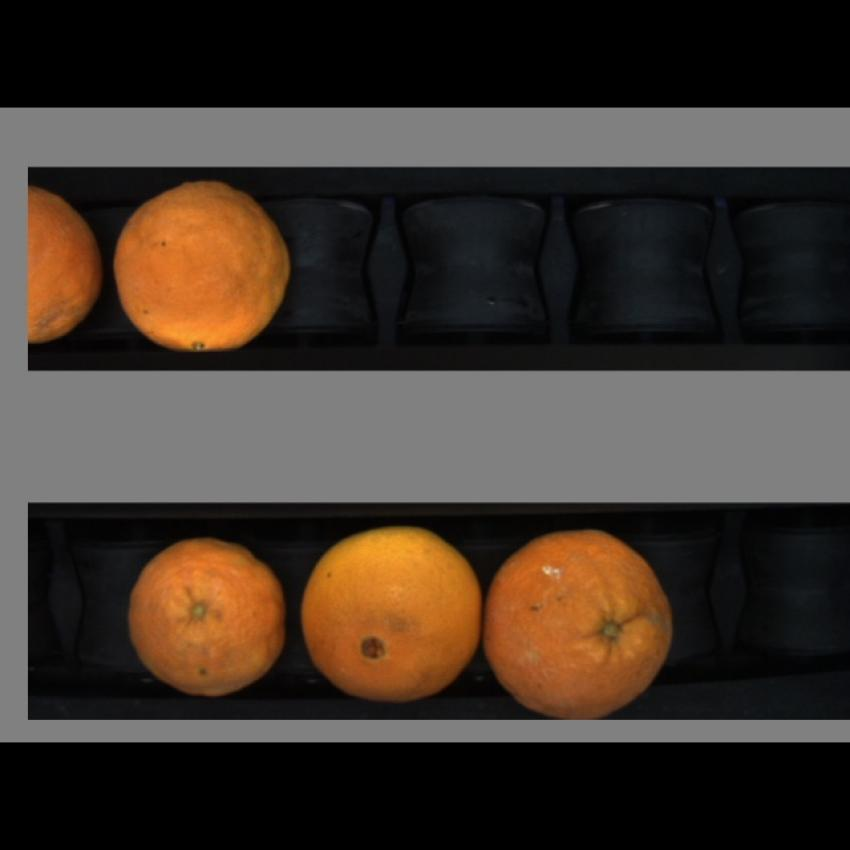Buen estado: (298, 529, 481, 705)
Mal estado: (484, 528, 681, 720), (112, 173, 301, 358), (119, 534, 288, 700), (30, 186, 103, 355)
